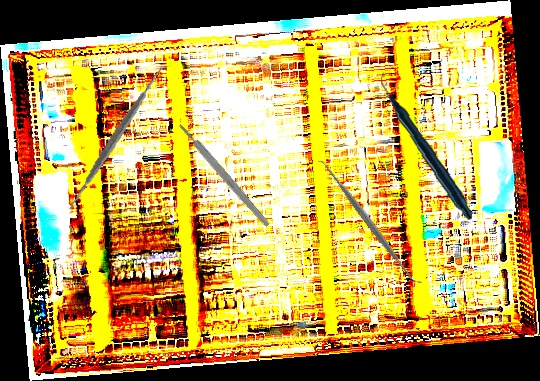Handpiece: (374, 70, 480, 221)
Scalpel Handle: (177, 121, 271, 229)
Spatula Surgical: (44, 65, 188, 210), (314, 153, 425, 292)
